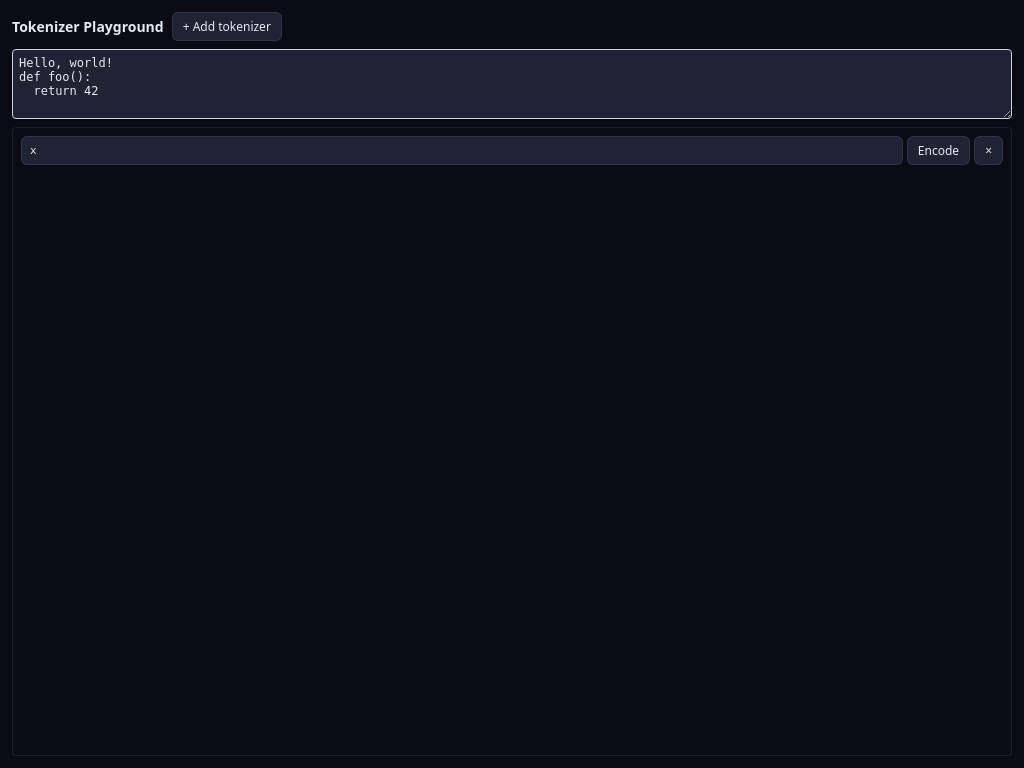
it: TokenizerPlayground › Encode populates chips when backend responds
Click the button with test id "tokenizer-encode-0".
click(939, 150)  # box [907,136,970,165]
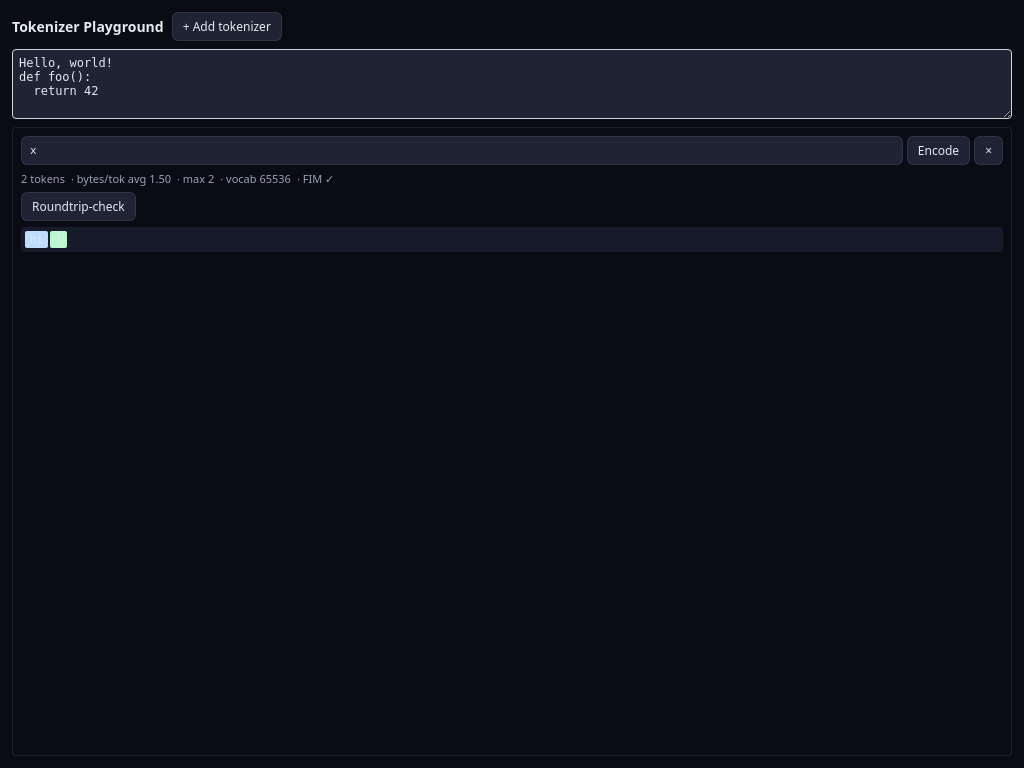
Check: the element with test id "tokenizer-chips-0" is shown, box [21,227,1003,252]
Check: the text with test id "tokenizer-chip-0-0" reads "hi", box [30,233,43,246]
Check: the text with test id "tokenizer-chip-0-1" reads "!", box [55,233,62,246]
